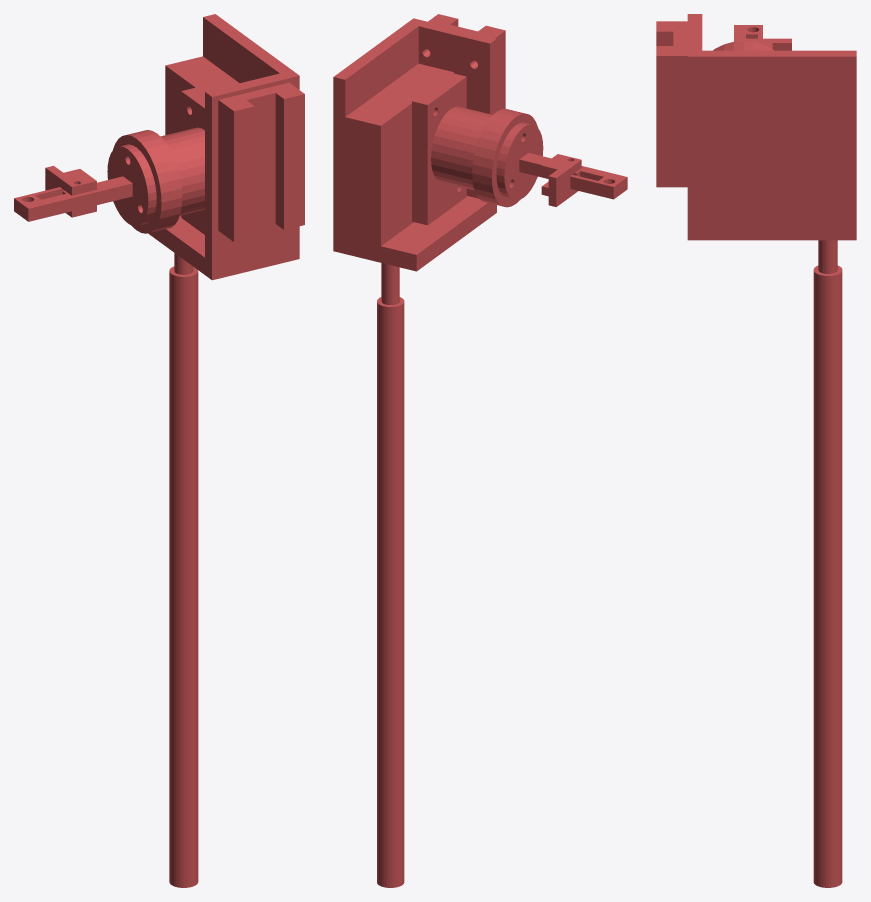
The model's file is Sled.dae.
3 views of the same model, side by side, from view 1: azimuth 30°, elevation 25°; view 2: azimuth 150°, elevation 25°; view 3: azimuth 270°, elevation 25° (orthographic). The views are drawn at different scales.
Visible parts, largest first — view 1: Sled; view 2: Sled; view 3: Sled.
Part boxes in pixels (x1=…): Sled: x1=14, y1=14, x2=304, y2=887; Sled: x1=333, y1=14, x2=627, y2=887; Sled: x1=656, y1=14, x2=856, y2=887.
Size of the model in its own units: 59.5 by 41.5 by 194.
